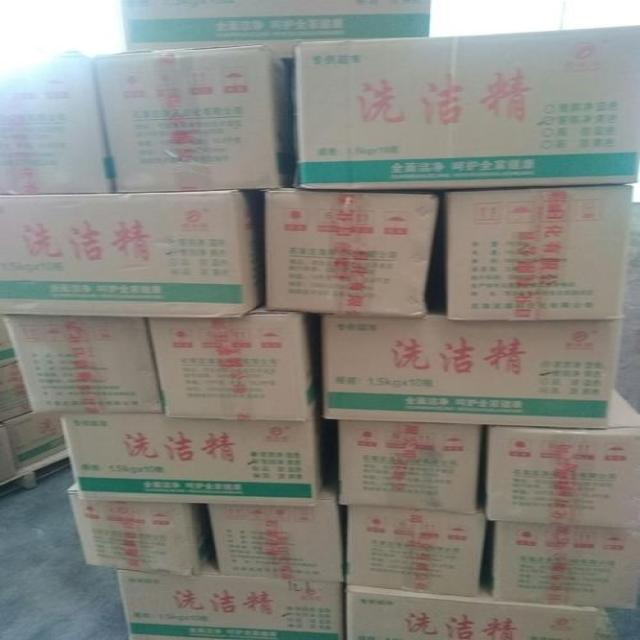box: (292, 26, 637, 188), (1, 187, 266, 320), (321, 314, 623, 428), (91, 45, 294, 190), (444, 183, 627, 321), (60, 414, 339, 504), (262, 188, 443, 318), (488, 382, 640, 527), (123, 0, 431, 67), (116, 550, 343, 639), (143, 310, 320, 420), (343, 579, 598, 640), (0, 53, 109, 194), (209, 470, 342, 582), (338, 420, 489, 514), (342, 506, 488, 600), (494, 519, 640, 610), (69, 494, 216, 575)
